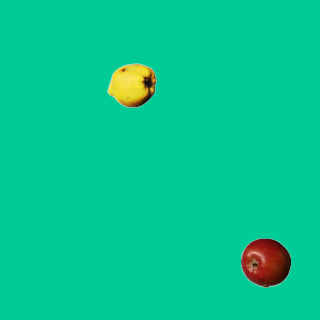Apple Braeburn: (240, 237, 290, 287)
Quince: (106, 60, 156, 110)
